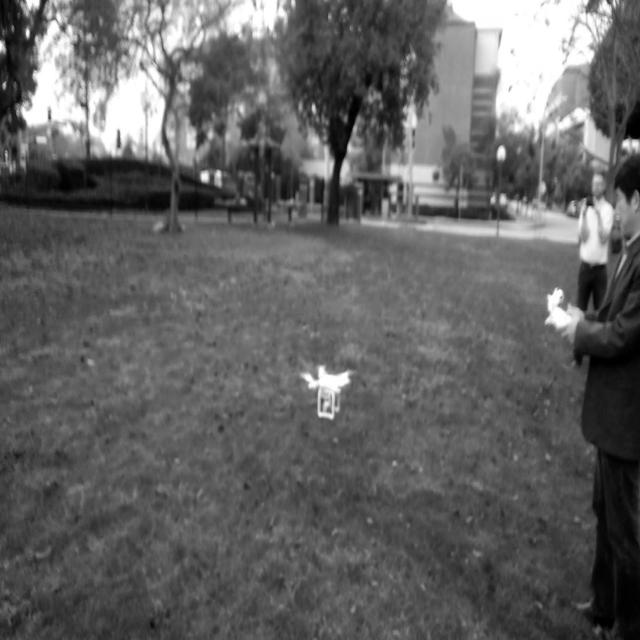drone: (302, 362, 355, 422)
